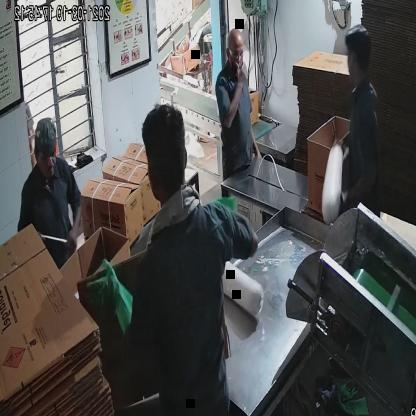no_glove: (334, 166, 380, 220), (216, 66, 250, 139), (64, 185, 88, 271)
